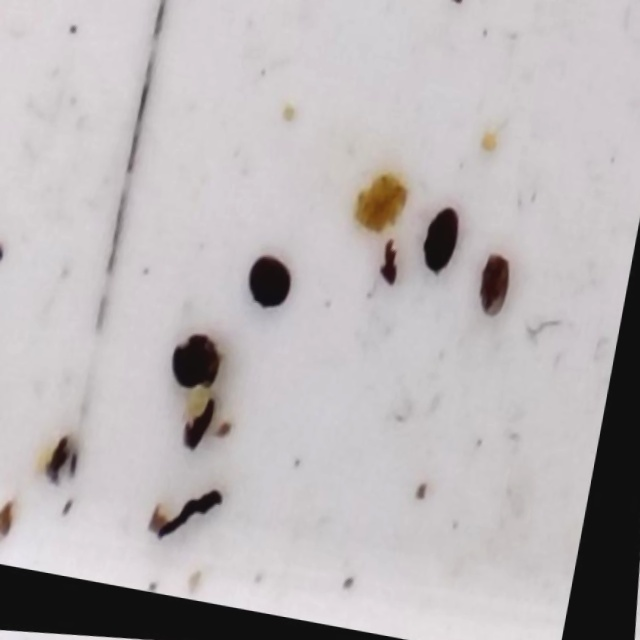varroa: (172, 336, 228, 404), (243, 257, 301, 321), (417, 206, 463, 283)
